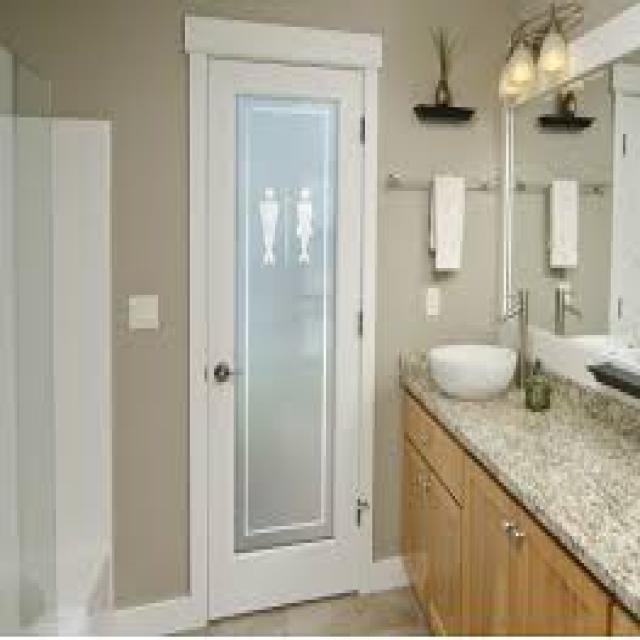door: (184, 17, 383, 631), (609, 64, 638, 332)
